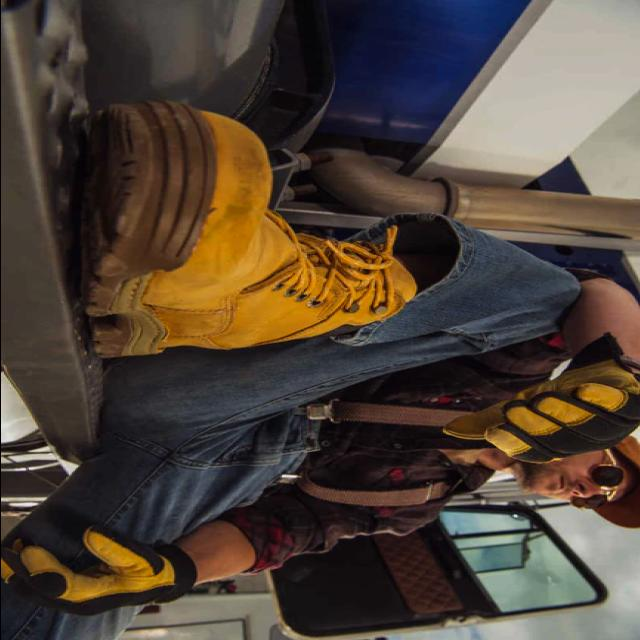Boots: (69, 100, 422, 358)
Gloves: (437, 359, 640, 464), (0, 520, 196, 616)
